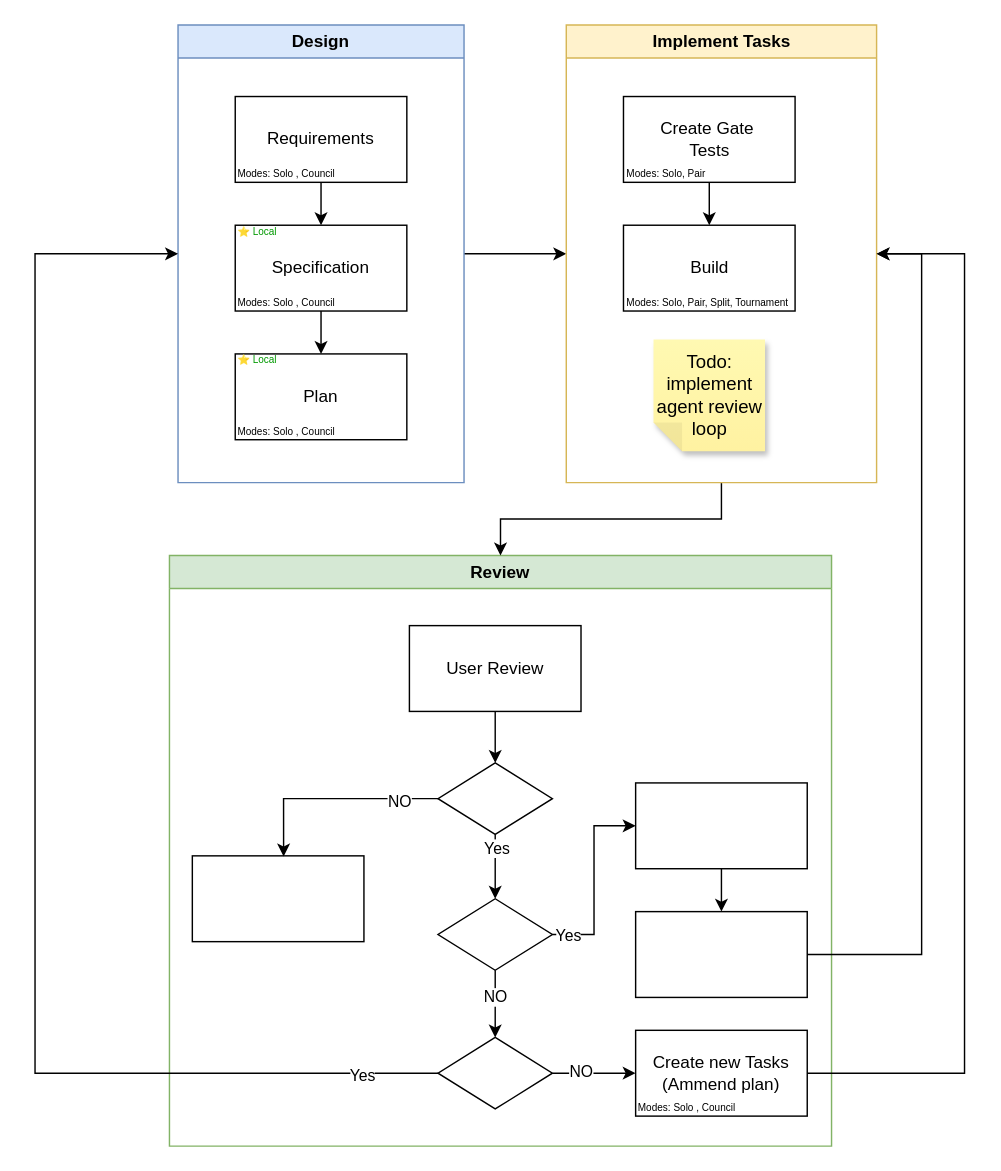
The diagram is 1001 pixels wide and 1171 high, and some of its shapes have lost their labels. The shapes that lost their labels are listed below. From the top down, each one's centre as x and y in pixels, then its label:
the point at 494,797: Needs change?
the point at 720,825: Bug Report
the point at 277,898: Release
the point at 494,933: Bug?
the point at 720,953: Triage
the point at 494,1072: Core?
